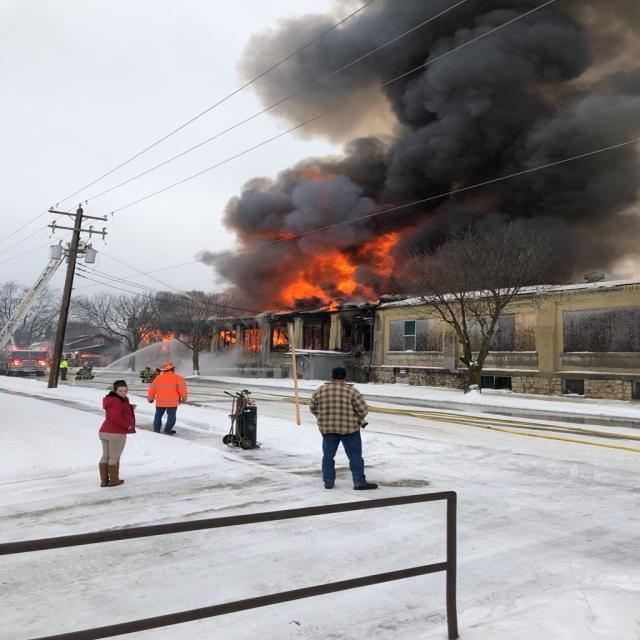Fire: (272, 230, 404, 314), (138, 327, 174, 351), (244, 329, 262, 352), (272, 329, 288, 346), (218, 330, 236, 342)
Smoke: (192, 1, 640, 330), (102, 344, 244, 377)
